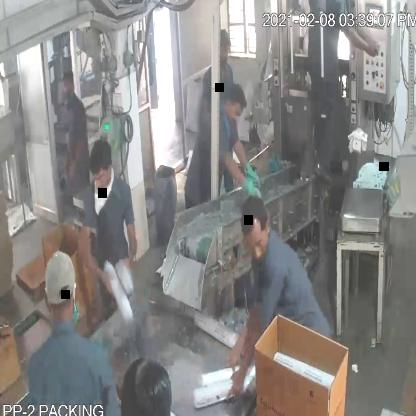no_glove: (232, 290, 267, 398), (75, 218, 117, 299), (122, 206, 138, 274)
